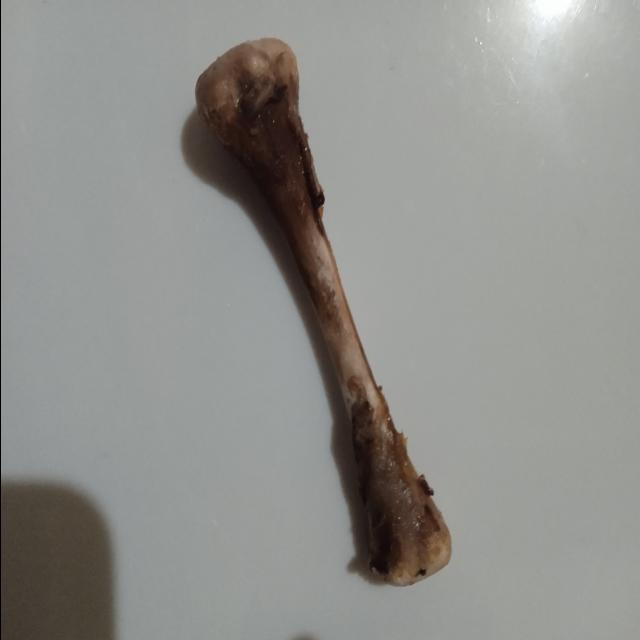bone: (185, 31, 459, 596)
